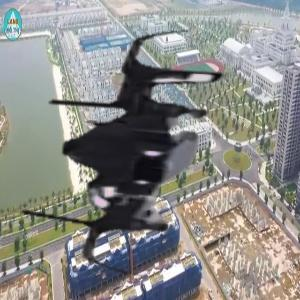drone: (3, 19, 270, 286)
